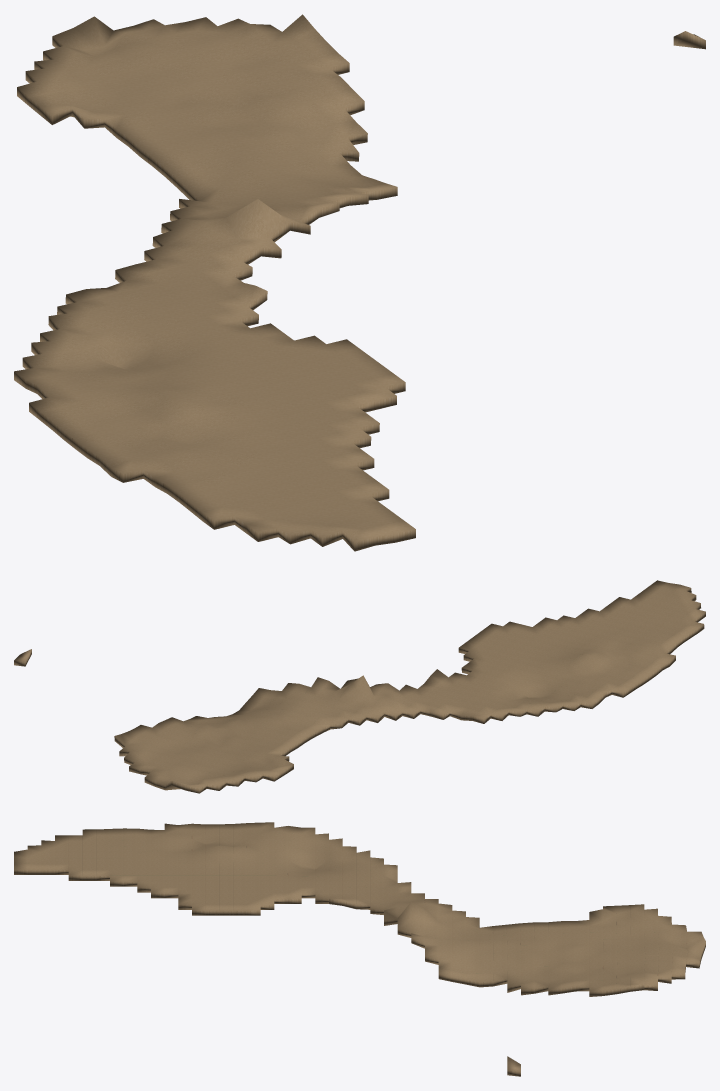
The model's file is spikedognavmesh.glb.
The picture shows the model from 3 angles, top to bottom: view 1: azimuth 30°, elevation 25°; view 2: azimuth 150°, elevation 25°; view 3: azimuth 270°, elevation 25°; orthographic projection. The views are drawn at different scales.
Parts seen in each view (by area): view 1: spikedognavmesh; view 2: spikedognavmesh; view 3: spikedognavmesh.
Boxes of the visible parts, <box> form: spikedognavmesh: <box>14,14,705,551</box>; spikedognavmesh: <box>14,580,705,793</box>; spikedognavmesh: <box>14,822,705,1076</box>.
Size of the model in its own units: 2232 by 166 by 2622.
1 material, 1 textured.
